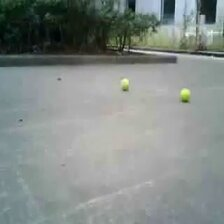tennis: (179, 88, 191, 101), (119, 78, 130, 90)
